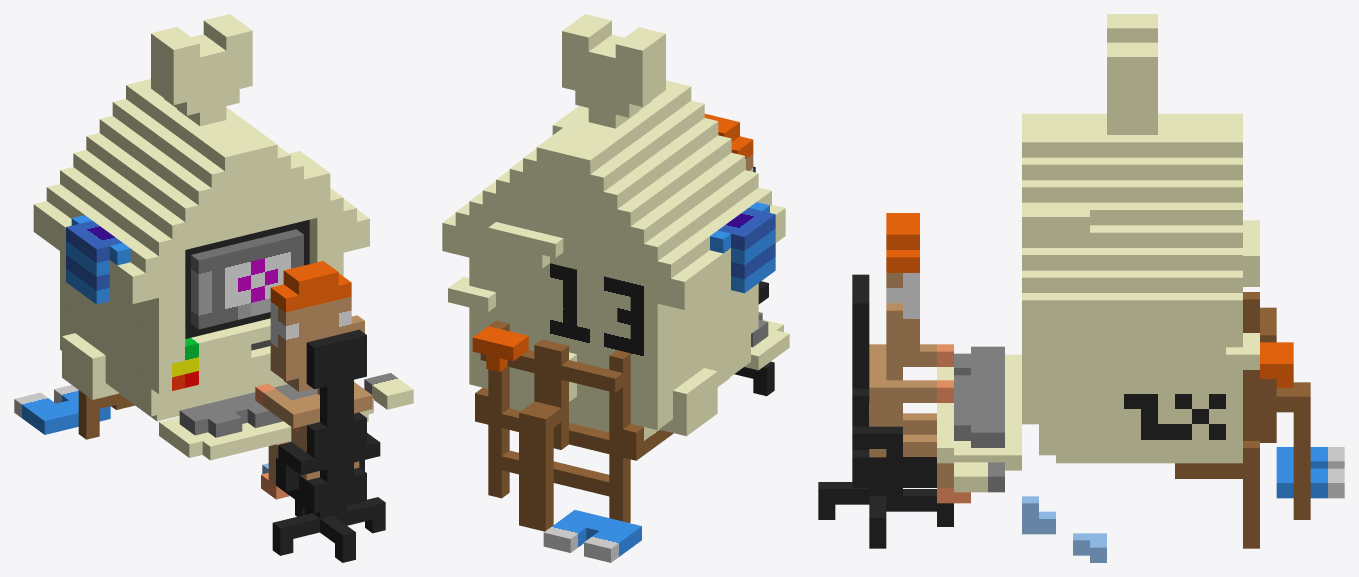
File: HOME#13_GLB.glb
3 views of the same model, side by side, from view 1: azimuth 30°, elevation 25°; view 2: azimuth 150°, elevation 25°; view 3: azimuth 270°, elevation 25° (orthographic). The views are drawn at different scales.
Visible parts, largest first — view 1: Node-Local; view 2: Node-Local; view 3: Node-Local.
Boxes of the visible parts, box(x1,y1,x2,y2) form: Node-Local: box(14, 14, 413, 562); Node-Local: box(442, 14, 789, 562); Node-Local: box(818, 14, 1344, 562).
Bounding box in the file's own units: 20 × 31 × 31.
Materials: 1 (1 with a texture image).
